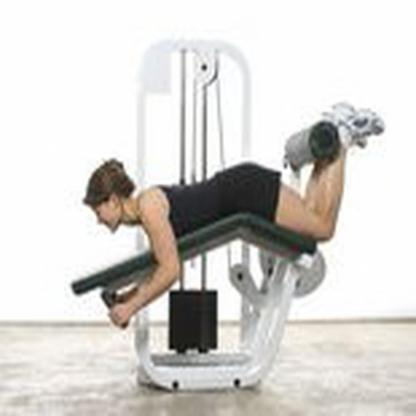reg curl machine: (69, 38, 386, 395)
